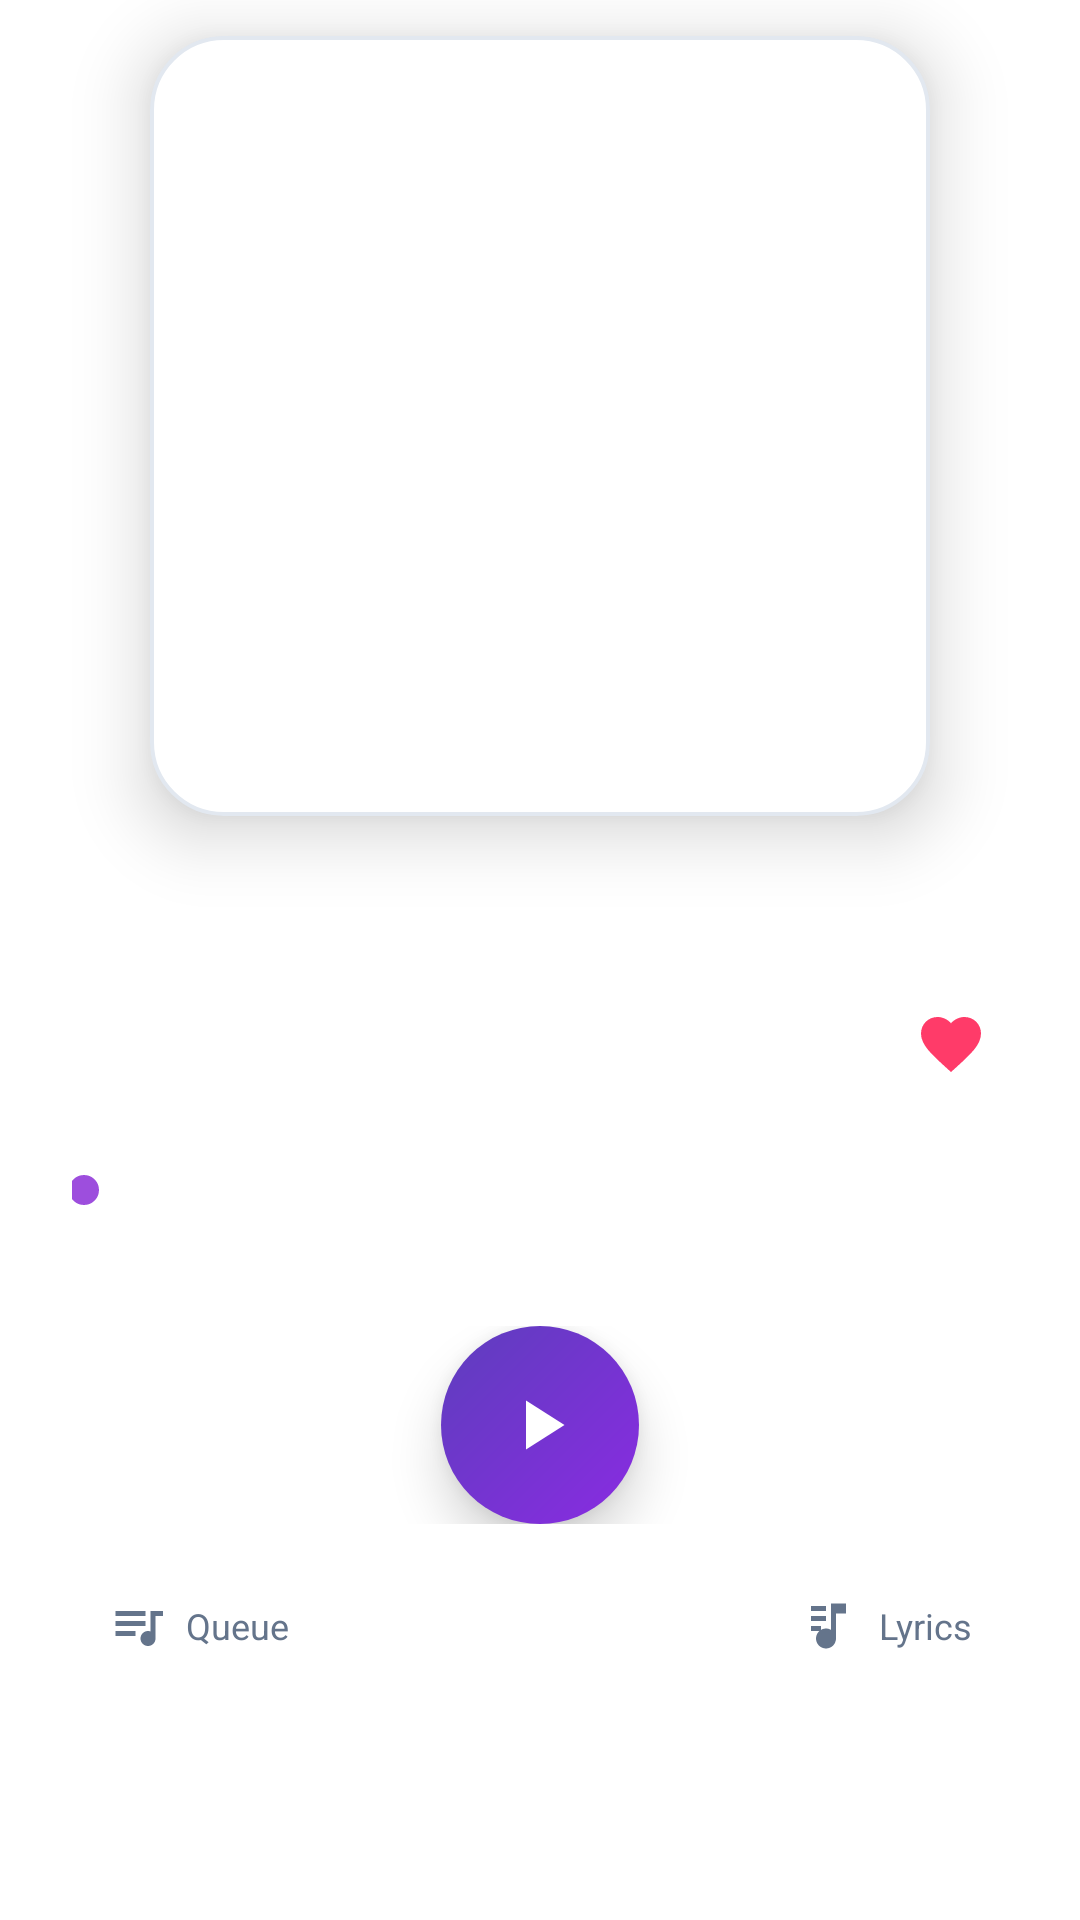

Named icons in this screenshot (1080x1920) and their bounding boxes, (x1,y1,x2,y2):
Favorite: (921,1017,981,1072)
Play/Pause: (526,1400,564,1450)
